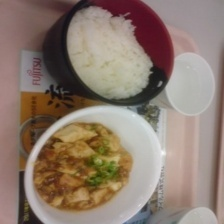rice: (65, 4, 155, 104)
